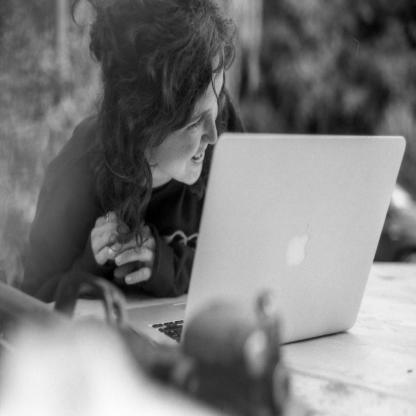board: (100, 88, 373, 376)
